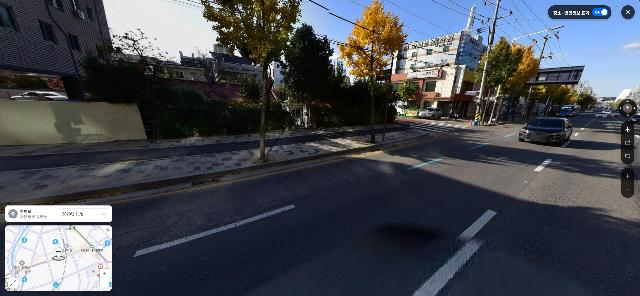ginkgo: (337, 1, 406, 143), (499, 40, 541, 123)
other: (201, 0, 305, 162), (281, 23, 346, 129), (476, 36, 525, 125), (521, 79, 550, 122), (541, 84, 573, 117), (396, 81, 419, 116)
